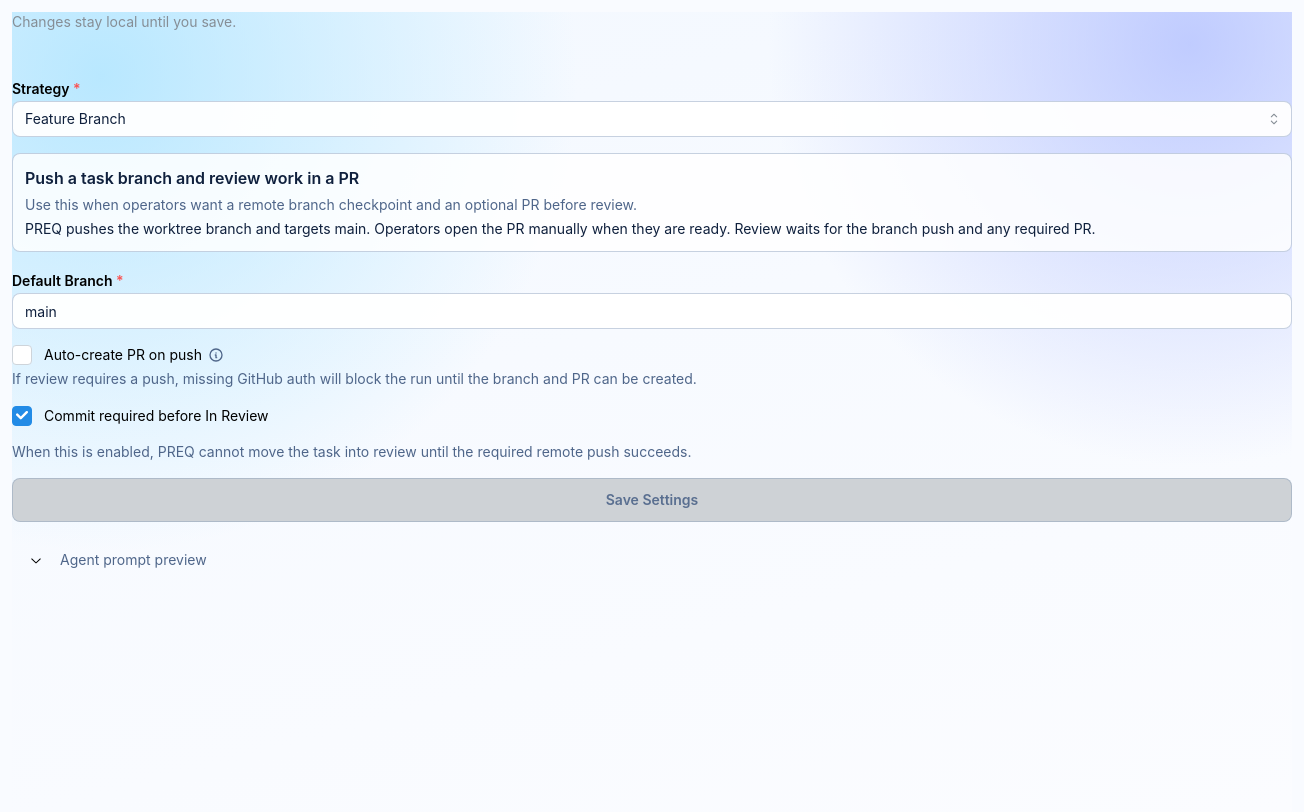
app/components/panels/deploy-settings-panel › surfaces inline save errors after submit
This screenshot has width=1304, height=812.
In the field labelled "Default Branch *": (652, 311) [12, 293, 1292, 329], type "release"
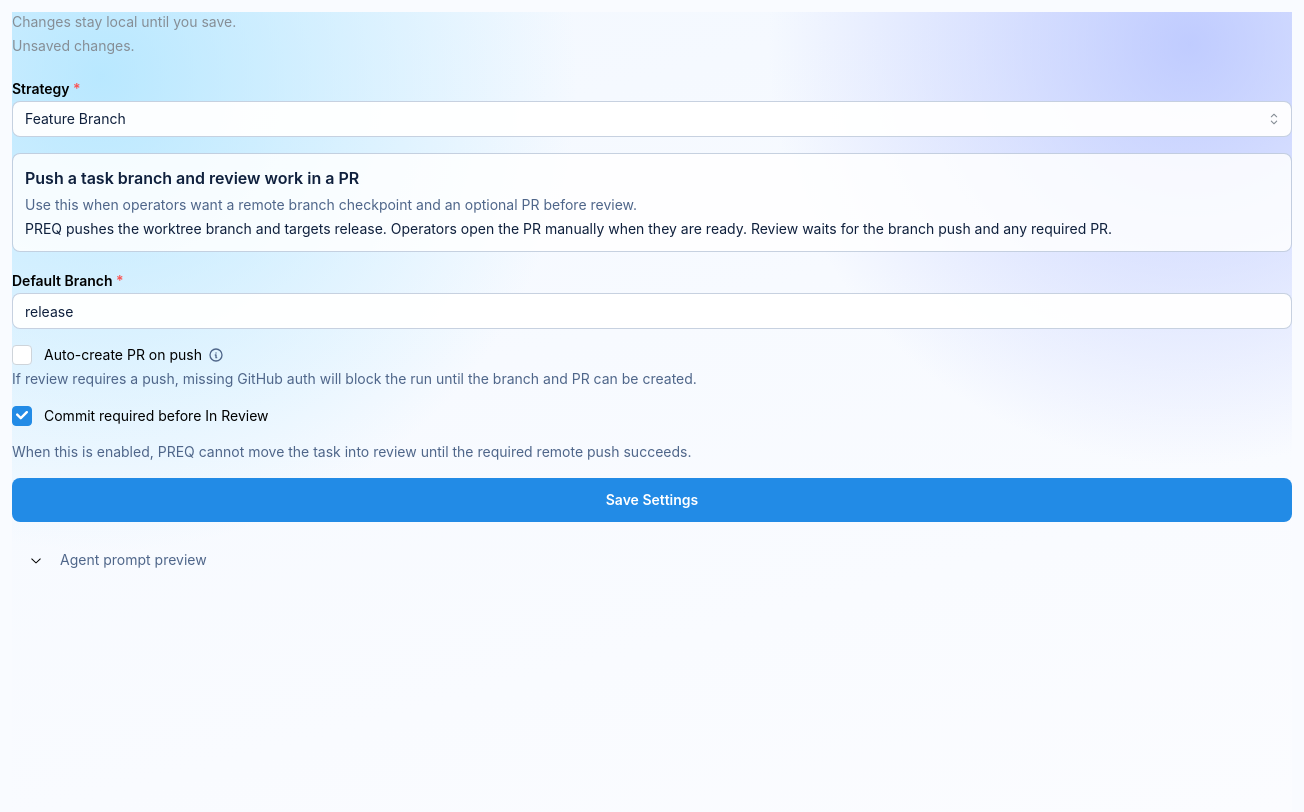
Submit the form named "Default Branch"
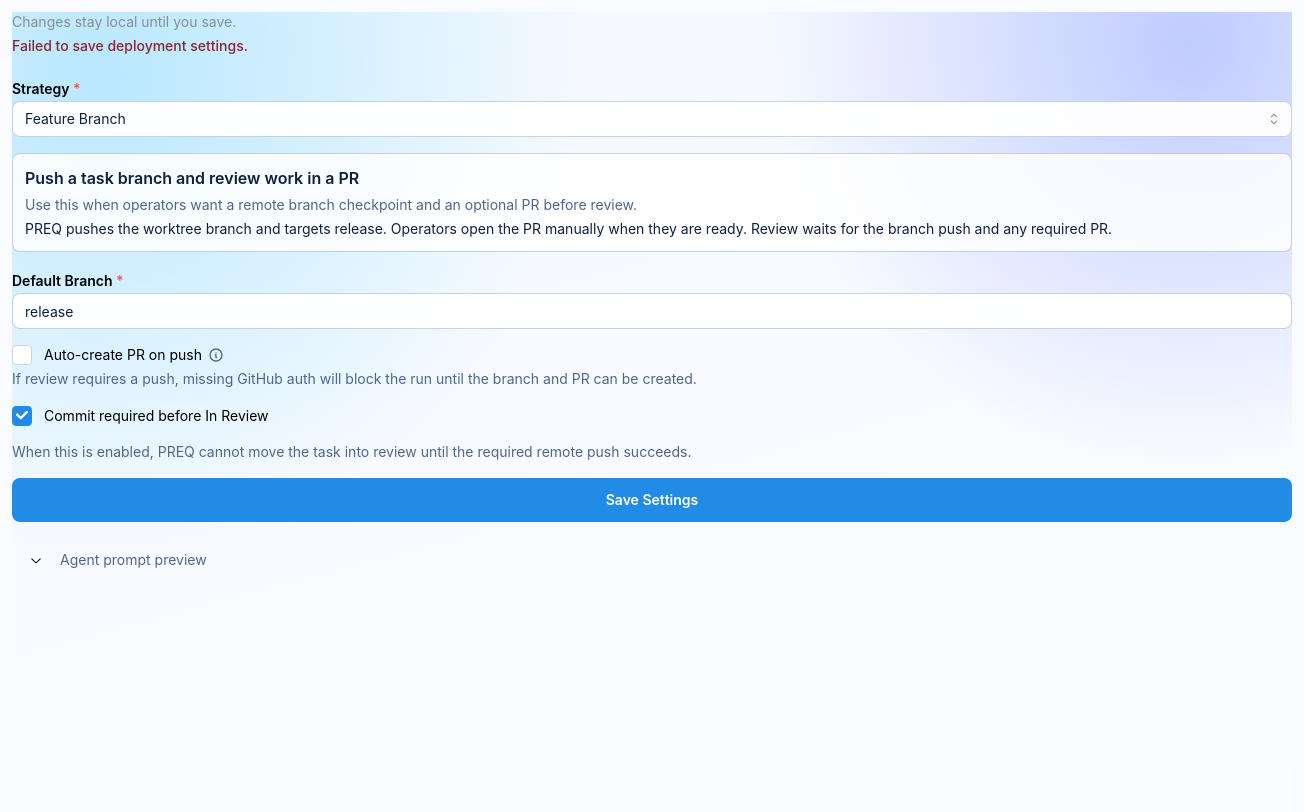
Result: the text "Failed to save deployment settings." is shown at [12, 37, 248, 54]
